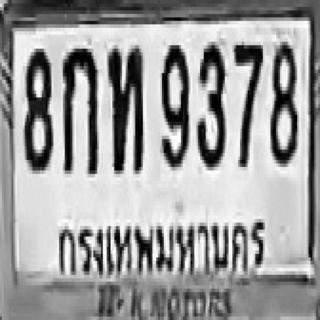A01: (61, 45, 97, 170)
A23: (106, 42, 142, 170)
N03: (194, 42, 225, 163)
N07: (232, 40, 261, 165)
N08: (23, 45, 52, 167), (269, 40, 295, 162)
N09: (160, 42, 187, 167)
P04: (53, 205, 272, 286)
